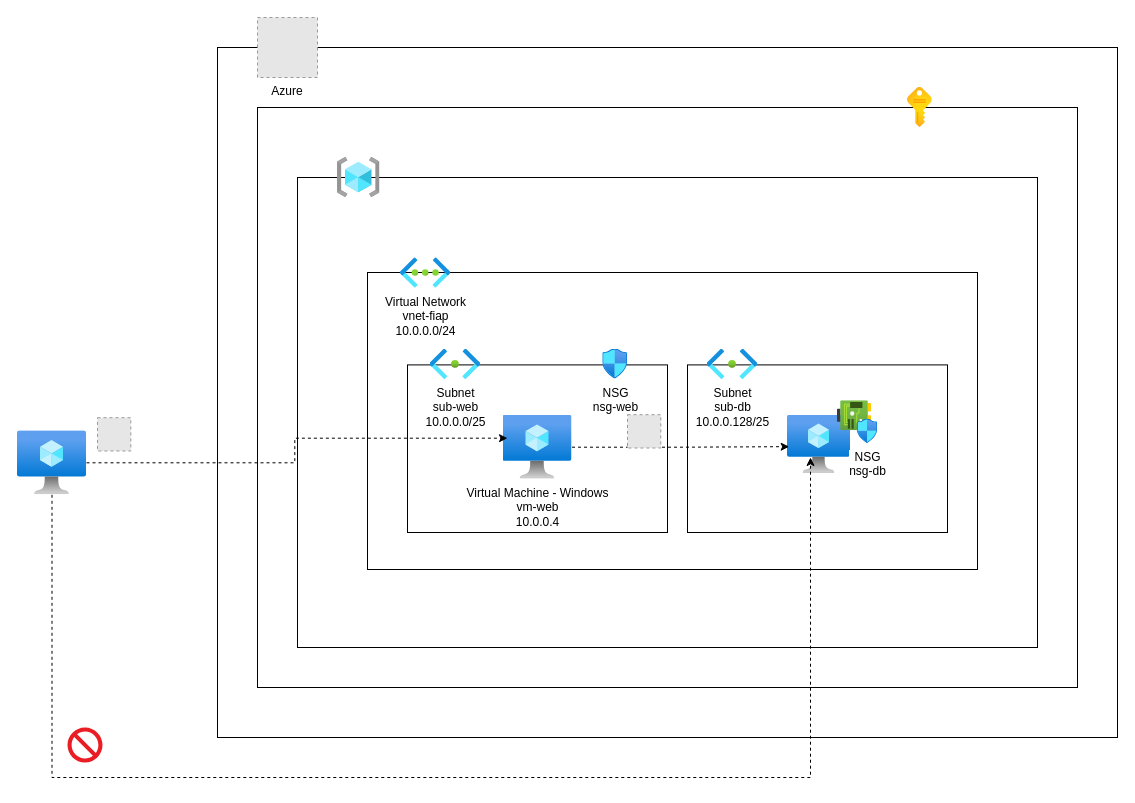
Some shapes in this 1135 by 803 pixel diagram are drawn without their labels. Grey dashed boxes stand in for pictures. The shapes that lost their labels are listed below. From the top down, each one's centre as x and y in pixels, then its label:
[919,107]: Subscription 2025-Marcus-Martins-Leite-pf1754
[358,177]: Resource Group rg-dev
[818,444]: Virtual Machine - Linux vm-db 10.0.0.132
